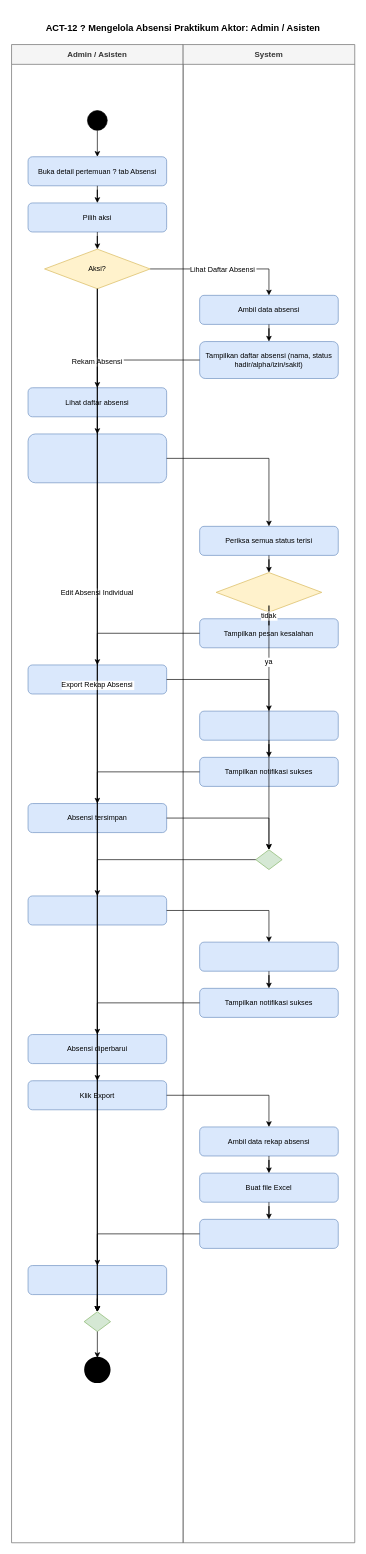
This 366x1554 diagram has some shape labels left out. Each missing label, with the box of its shape:
File Excel rekap terunduh: (27, 1265, 167, 1295)
Form valid?: (215, 572, 322, 612)
Isi / ubah status absensi per praktikan (hadir / alpha / izin / sakit): (27, 433, 167, 483)
Lengkapi status: (27, 664, 167, 694)
Mulai unduhan file: (199, 1219, 338, 1248)
Perbarui data: (199, 941, 338, 971)
Pilih praktikan ? ubah status: (27, 895, 167, 925)
Simpan atau perbarui data: (199, 710, 338, 740)
